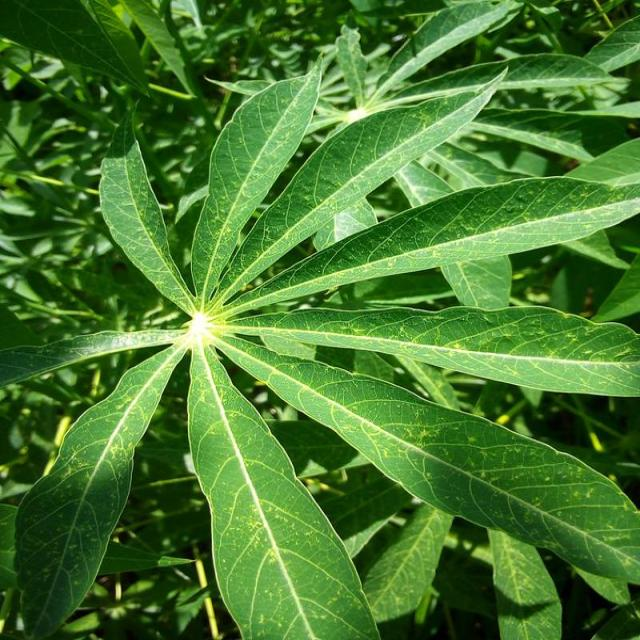cassava leaf: (2, 30, 638, 637), (186, 339, 382, 638)
